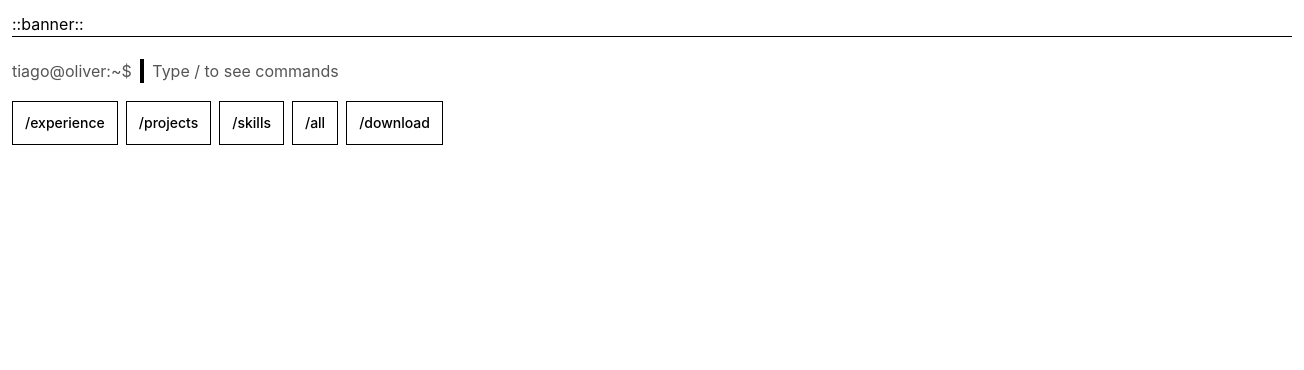
Test: Terminal › Given a quick command clicked, should print that section and announce it
The image size is (1304, 370).
Click the button "/experience" at point(65, 123), box [12,101,118,145]
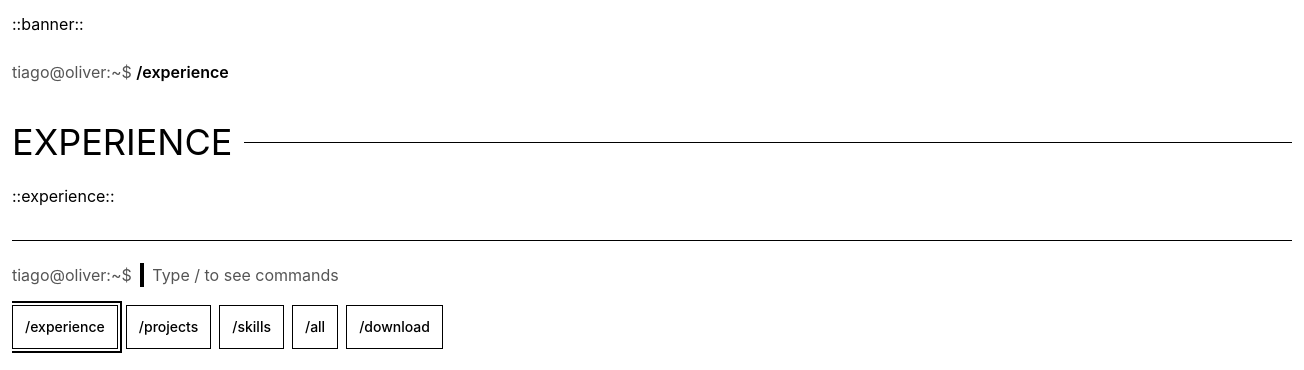
Now the heading "Experience" is shown, box [12,120,232,164]
Now the text "::experience::" is shown, box [12,186,115,206]
